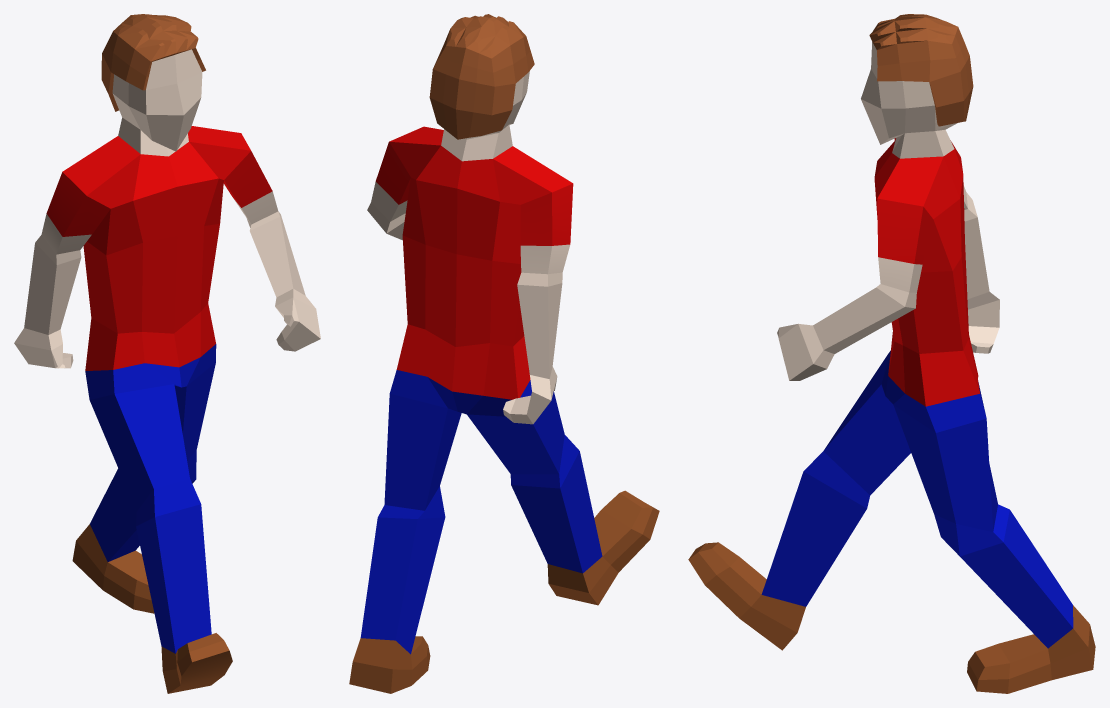
File: Human_walking_22.fbx
3 renders of one model, left to right at view 1: azimuth 30°, elevation 25°; view 2: azimuth 150°, elevation 25°; view 3: azimuth 270°, elevation 25°, orthographic. The views are drawn at different scales.
Visible parts, largest first — view 1: Person; view 2: Person; view 3: Person.
Part boxes in pixels (x1,y1,x2,y2): Person: [14, 14, 320, 693]; Person: [349, 14, 659, 693]; Person: [688, 14, 1095, 693].
Bounding box in the file's own units: 0.1167 × 0.3096 × 0.1771.
